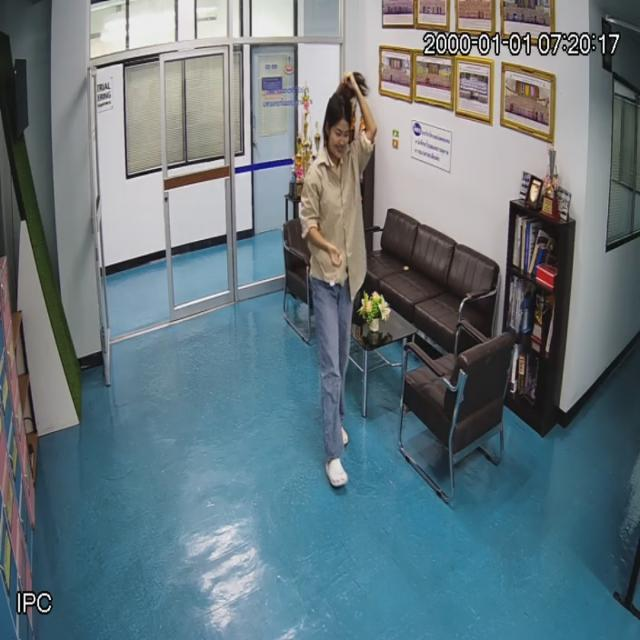normal: (295, 66, 379, 487)
